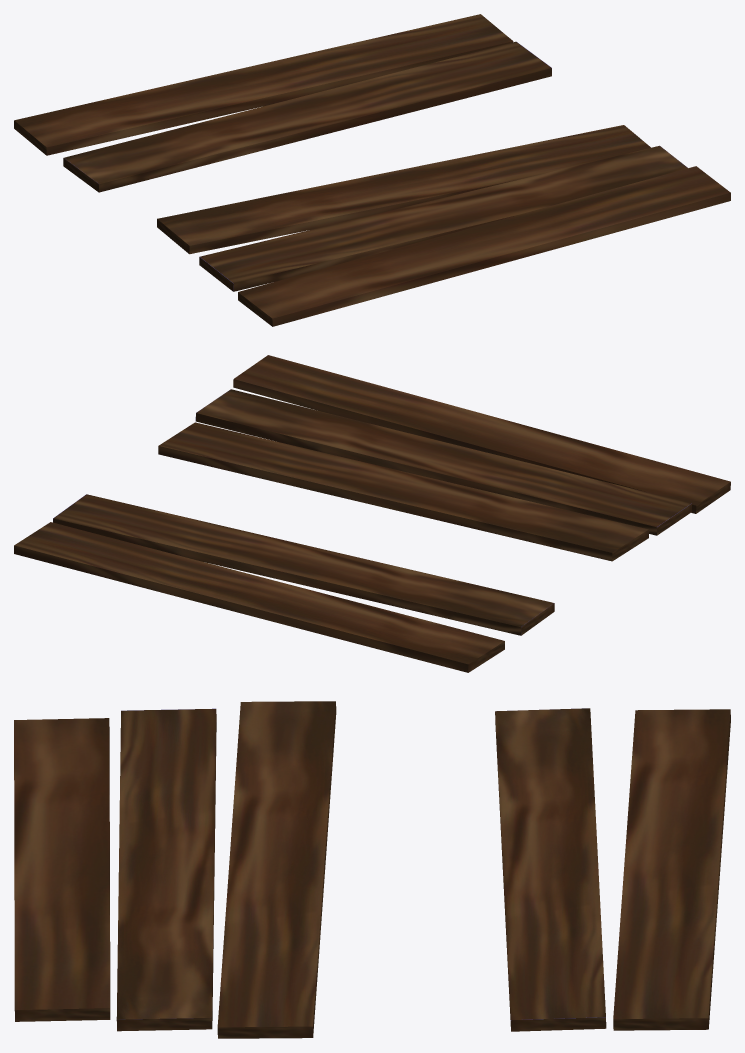
File: Caminho2.fbx
3 views of the same model, one above another, from view 1: azimuth 30°, elevation 25°; view 2: azimuth 150°, elevation 25°; view 3: azimuth 270°, elevation 25° (orthographic). The views are drawn at different scales.
Visible parts, largest first — view 1: Way.1; view 2: Way.1; view 3: Way.1.
Part boxes in pixels (x1,y1,x2,y2): Way.1: [14, 14, 730, 326]; Way.1: [14, 355, 730, 672]; Way.1: [14, 701, 730, 1038].
Size of the model in its own units: 298 by 14.62 by 290.
